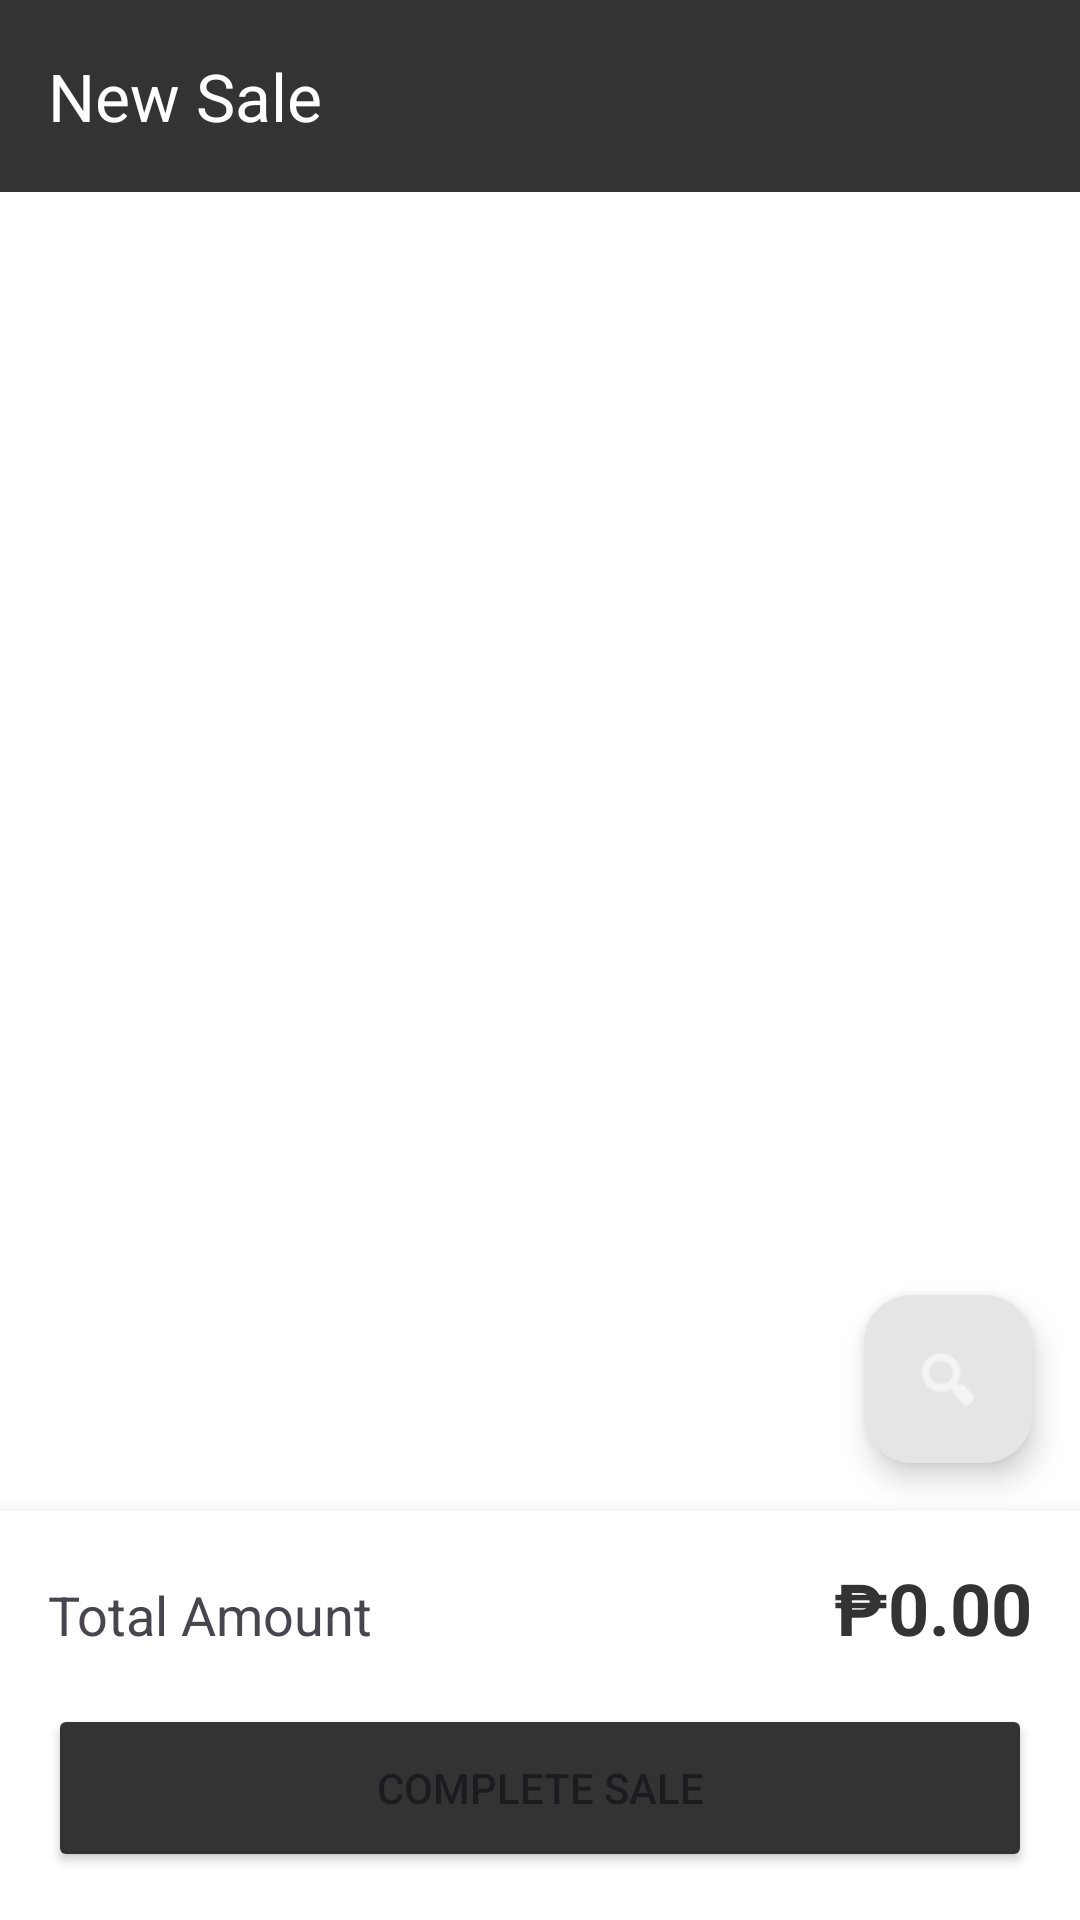

Icons on this 1080*1920 Android screen, each with the point to tap as point (x, y):
search: point (948, 1379)
